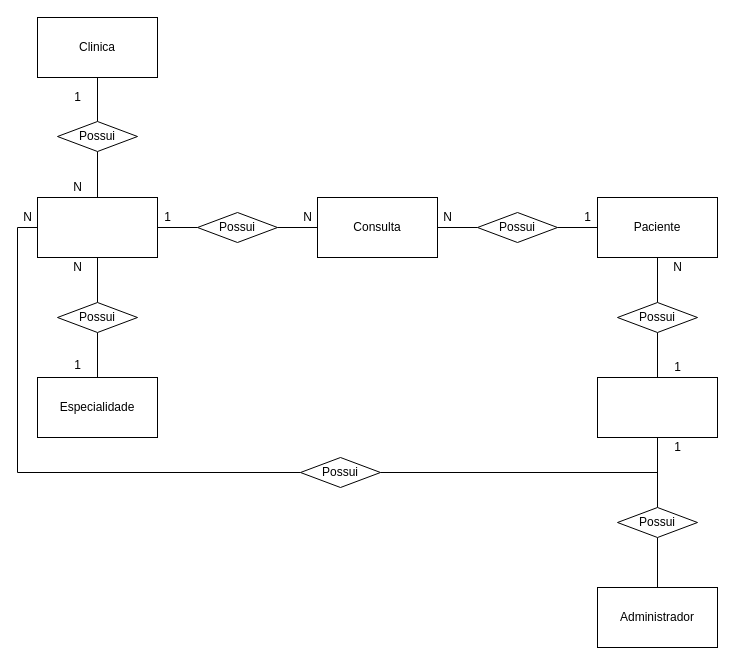
Image size: 735x665. Some labels were removed from this diagram. The centre of each missing label's shape, as x and y in pixels:
"Médico" goes at pixel 97 227.
"TipoUsuário" goes at pixel 657 407.
